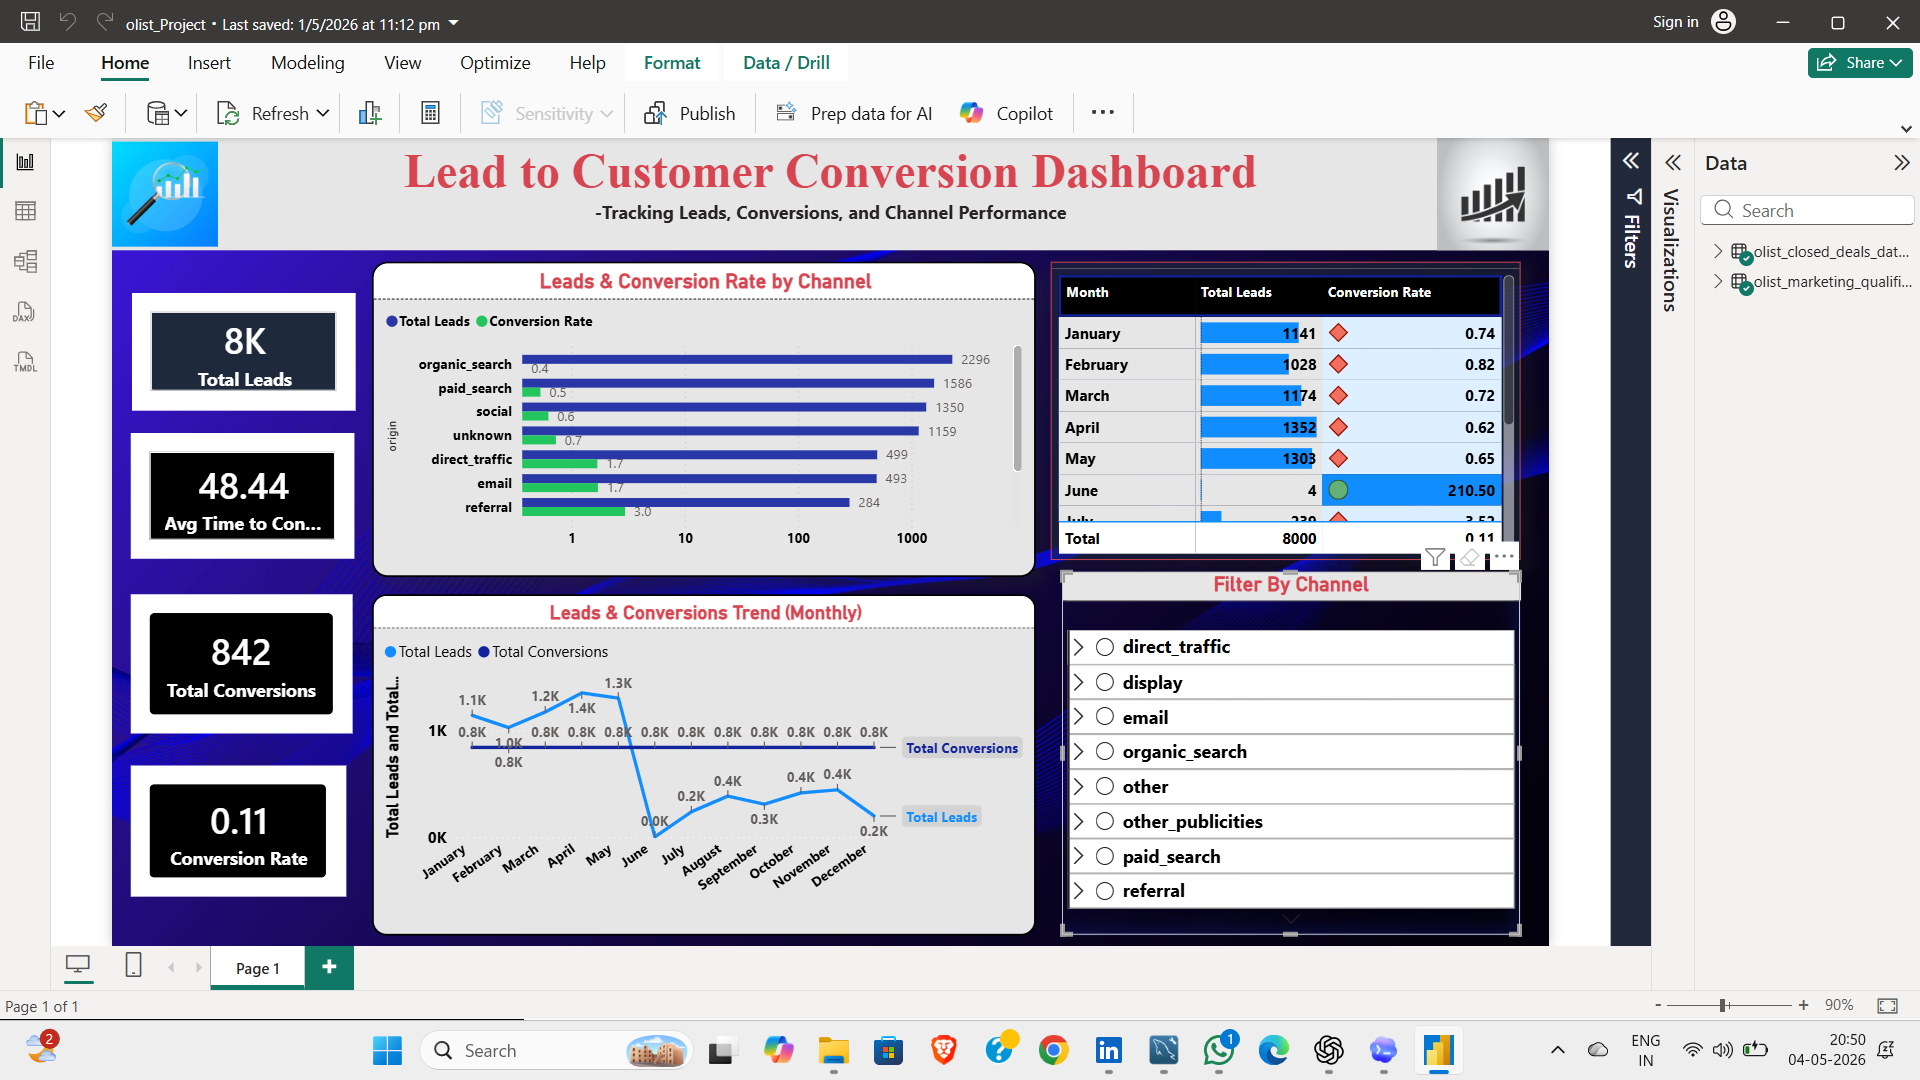

The dashboard page shown, as its layout file describes it:
{"tool":"powerbi","page":{"name":"Page 1","canvas":[1280,720],"ordinal":0},"visuals":[{"type":"textbox","box":[0,0,1280,100.1],"z":0},{"type":"image","box":[0,0,94.1,100.1],"z":1000},{"type":"image","box":[1179.9,0,100.1,100.1],"z":2000},{"type":"clusteredBarChart","title":" Leads & Conversion Rate by Channel","fields":{"Y":["olist_closed_deals_dataset.Total Leads","olist_closed_deals_dataset.Conversion Rate"],"Category":["olist_marketing_qualified_leads_dataset.origin"]},"box":[231.6,109.8,591.2,281.1],"z":3000},{"type":"lineChart","title":"Leads & Conversions Trend (Monthly)","fields":{"Y":["olist_closed_deals_dataset.Total Leads","olist_closed_deals_dataset.Total Conversions"],"Category":["olist_marketing_qualified_leads_dataset.first_contact_date.Variation.Date Hierarchy.Month"]},"box":[231.6,406.6,591.2,304],"z":4000},{"type":"tableEx","fields":{"Values":["olist_marketing_qualified_leads_dataset.first_contact_date.Variation.Date Hierarchy.Month","olist_closed_deals_dataset.Total Leads","olist_closed_deals_dataset.Conversion Rate"]},"box":[836.1,109.8,418.6,265.4],"z":5000},{"type":"listSlicer","title":"Filter By Channel","fields":{"Values":["olist_marketing_qualified_leads_dataset.origin","olist_closed_deals_dataset.lead_type","olist_marketing_qualified_leads_dataset.first_contact_date.Variation.Date Hierarchy.Month"]},"box":[846,386.3,408.5,323.9],"z":6000},{"type":"cardVisual","fields":{"Data":["olist_closed_deals_dataset.Total Leads"]},"box":[18.1,137.5,199.1,105],"z":7000},{"type":"cardVisual","fields":{"Data":["olist_marketing_qualified_leads_dataset.Avg Time to Convert"]},"box":[16.9,263,199.1,112.2],"z":8000},{"type":"cardVisual","fields":{"Data":["olist_closed_deals_dataset.Total Conversions"]},"box":[16.9,406.6,197.9,124.3],"z":9000},{"type":"cardVisual","fields":{"Data":["olist_closed_deals_dataset.Conversion Rate"]},"box":[16.9,558.6,191.8,117],"z":10000}]}

Visuals, with their boxes on the page's 1280x720 design canvas (x1, y1, x2, y2). These are canvas units, not pixel positions in the 1920x1080 screenshot, which may show the page scaled, cropped or inside an application window:
textbox: x1=0, y1=0, x2=1280, y2=100
image: x1=0, y1=0, x2=94, y2=100
image: x1=1180, y1=0, x2=1280, y2=100
" Leads & Conversion Rate by Channel" clusteredBarChart: x1=232, y1=110, x2=823, y2=391
"Leads & Conversions Trend (Monthly)" lineChart: x1=232, y1=407, x2=823, y2=711
tableEx - olist_marketing_qualified_leads_dataset.first_contact_date.Variation.Date Hierarchy.Month x olist_closed_deals_dataset.Total Leads: x1=836, y1=110, x2=1255, y2=375
"Filter By Channel" listSlicer: x1=846, y1=386, x2=1254, y2=710
cardVisual - olist_closed_deals_dataset.Total Leads: x1=18, y1=138, x2=217, y2=242
cardVisual - olist_marketing_qualified_leads_dataset.Avg Time to Convert: x1=17, y1=263, x2=216, y2=375
cardVisual - olist_closed_deals_dataset.Total Conversions: x1=17, y1=407, x2=215, y2=531
cardVisual - olist_closed_deals_dataset.Conversion Rate: x1=17, y1=559, x2=209, y2=676
